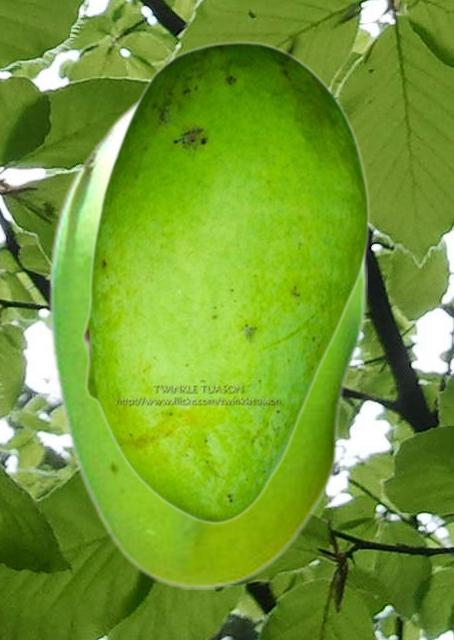green_mango: (47, 92, 366, 588), (81, 40, 370, 524)
